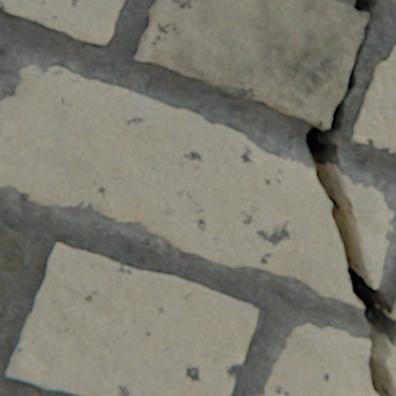brick: (7, 242, 258, 395), (135, 0, 368, 127), (0, 0, 125, 45), (352, 46, 395, 152), (0, 224, 30, 312), (391, 299, 395, 318)
broken_brick: (0, 65, 363, 306), (262, 322, 378, 395), (339, 172, 393, 286), (386, 344, 395, 388)
crack: (304, 0, 395, 395)
